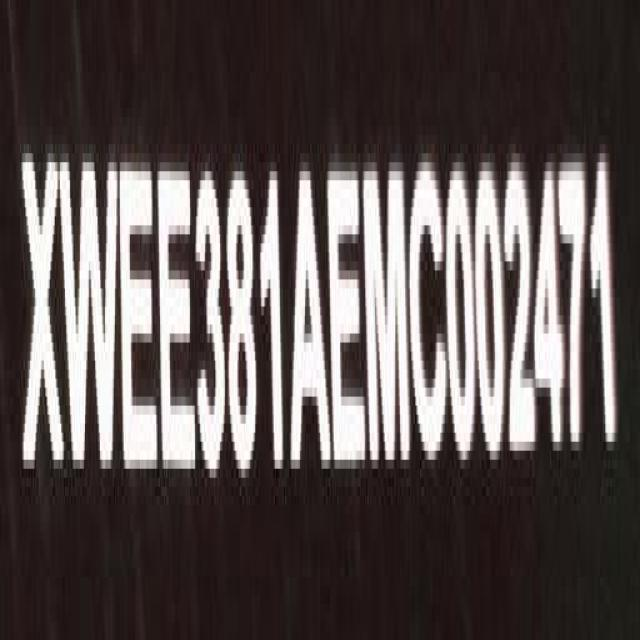0: (474, 147, 507, 474), (443, 160, 478, 464)
1: (259, 164, 287, 494), (589, 133, 617, 460)
2: (503, 154, 536, 460)
3: (198, 167, 227, 481)
4: (534, 167, 567, 454)
7: (559, 137, 589, 454)
8: (226, 174, 258, 484)
A: (290, 177, 332, 491)
C: (407, 147, 445, 474)
E: (117, 150, 159, 474), (156, 164, 196, 460), (329, 160, 366, 474)
M: (360, 150, 412, 488)
W: (60, 154, 119, 460)
X: (21, 124, 66, 478)
